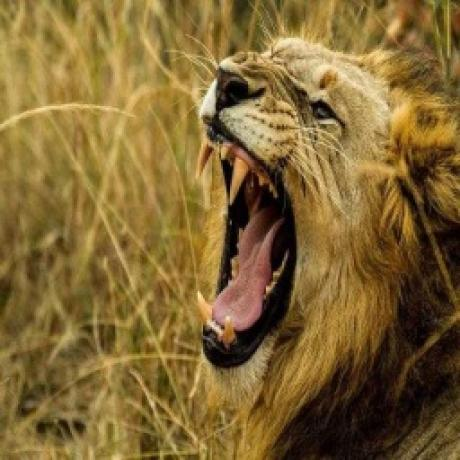Lion: (192, 32, 460, 460)
